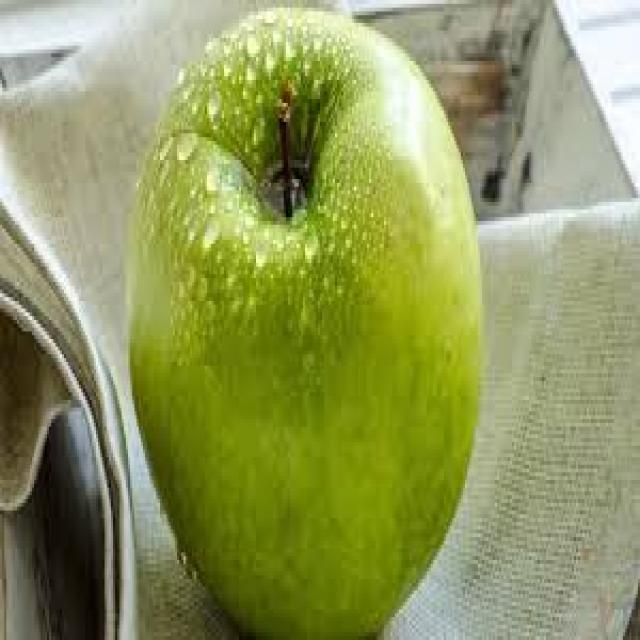Fresh Apple: (113, 0, 502, 640)
